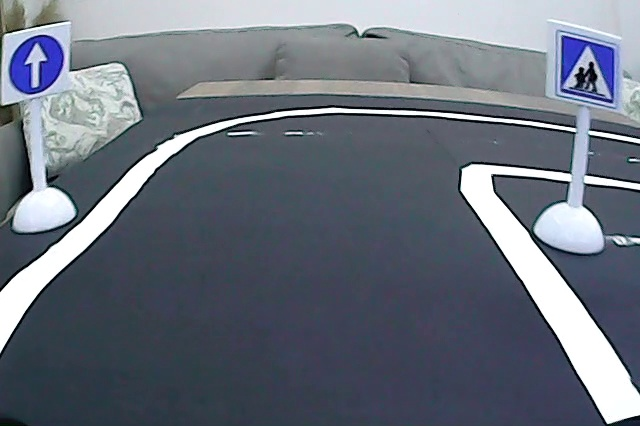school crossing: (553, 28, 619, 108)
